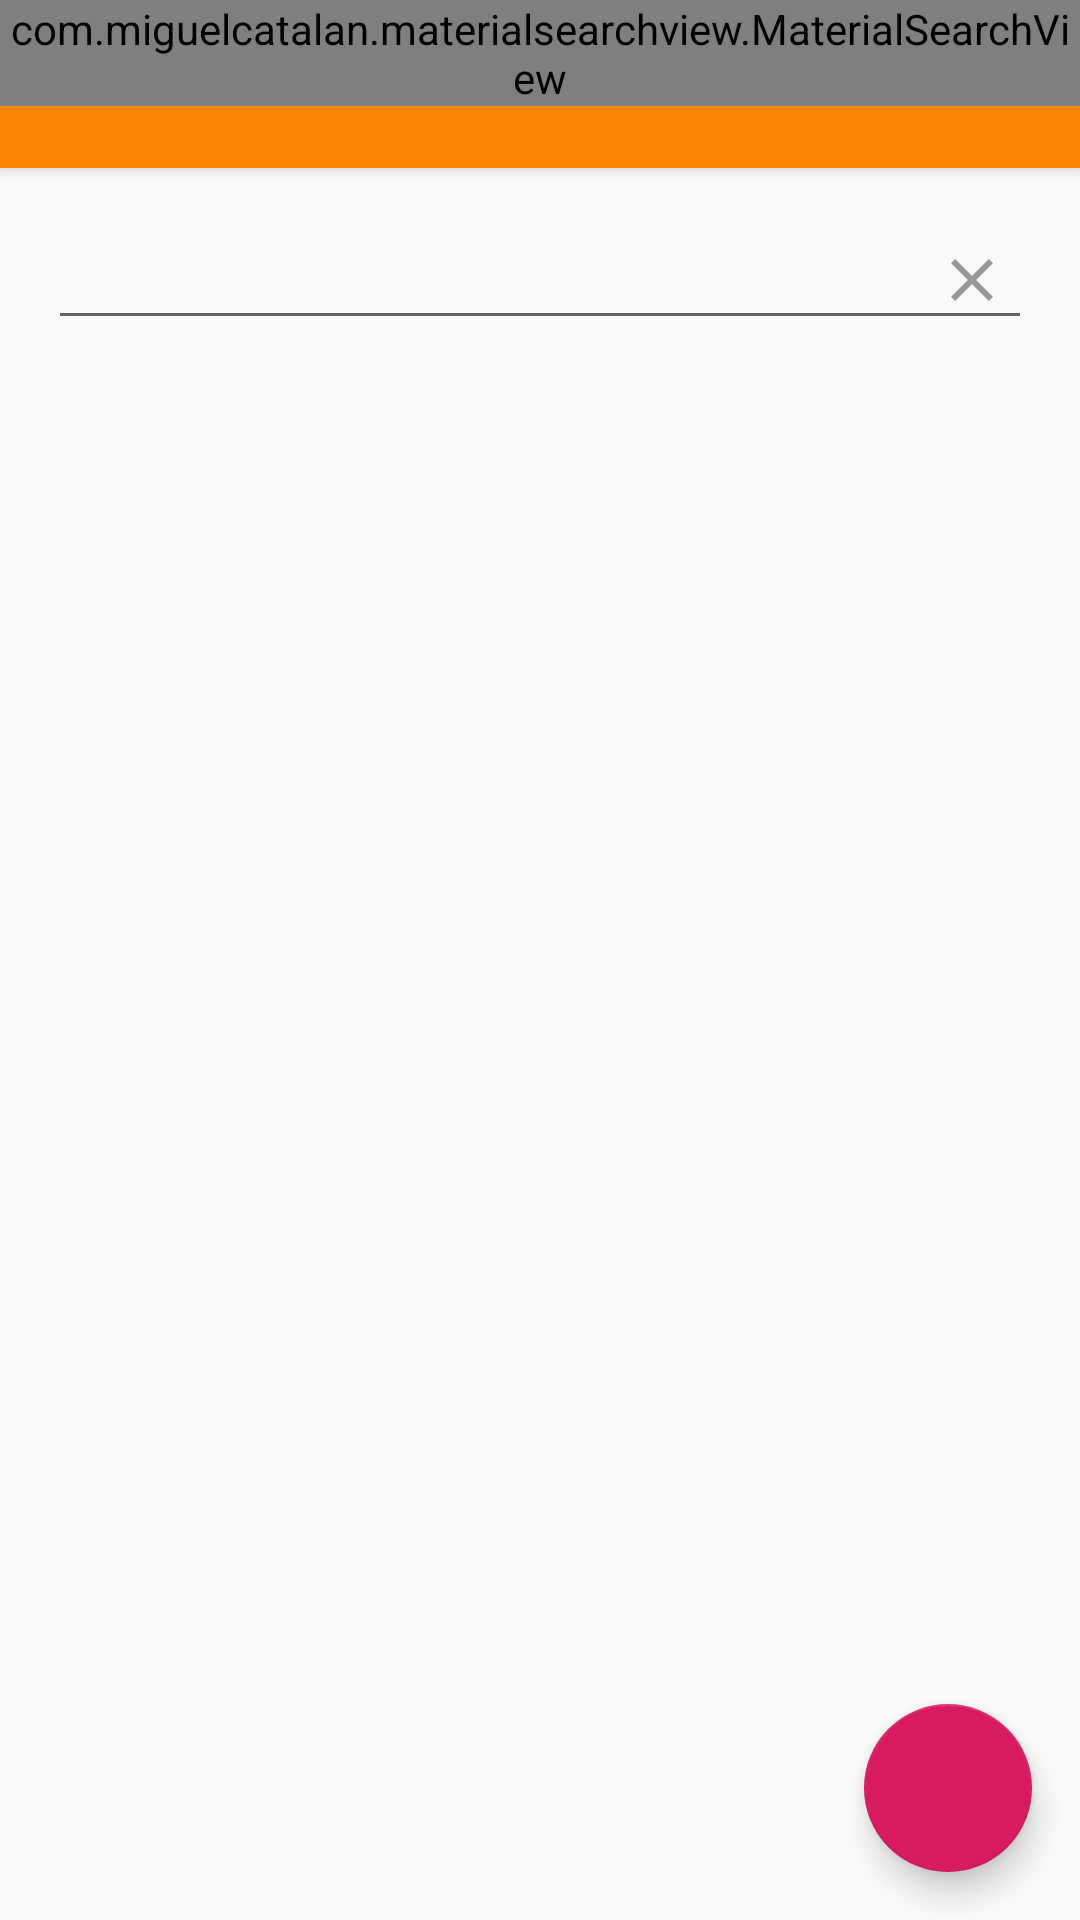

Point at icon controls on the screen. Image size 1080 x 1920, points as point (x, y).
clear: point (972, 280)
